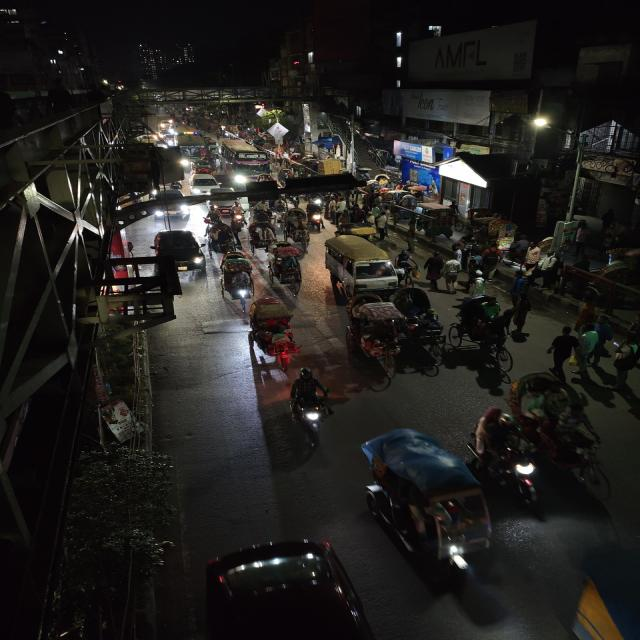bus: (220, 141, 274, 183), (176, 134, 211, 168)
car: (195, 532, 379, 640), (150, 228, 208, 276), (188, 174, 224, 196)
human_hauler: (322, 234, 404, 292)
motorcycle: (470, 408, 543, 505), (280, 366, 336, 450), (412, 310, 447, 352), (302, 200, 328, 232)
pedestrian: (544, 326, 580, 378), (610, 344, 640, 392), (508, 293, 538, 333), (584, 326, 610, 368), (510, 264, 541, 296), (423, 250, 447, 290), (394, 248, 418, 285), (570, 220, 593, 258), (478, 250, 504, 282), (462, 262, 487, 294), (440, 258, 462, 293), (447, 262, 471, 294), (371, 210, 395, 240), (333, 206, 358, 232), (594, 314, 614, 344)
rickshaw: (355, 423, 498, 576), (508, 368, 618, 494), (241, 296, 304, 379), (341, 294, 406, 374), (450, 302, 511, 374), (216, 251, 258, 309), (268, 240, 304, 288), (246, 219, 281, 251), (250, 207, 278, 237), (208, 226, 235, 252)
